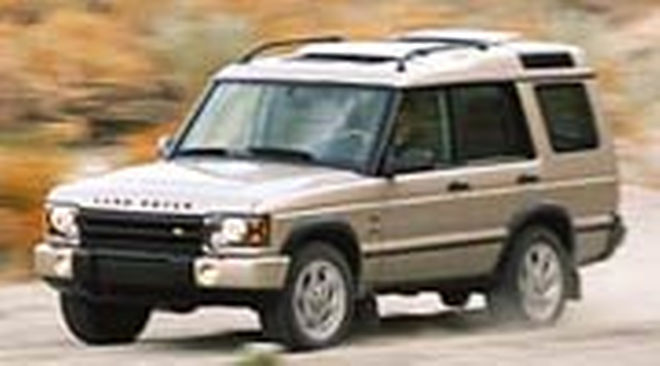front_view: (14, 30, 198, 86)
headlight: (121, 48, 144, 73)
side_glass: (202, 19, 237, 69)
